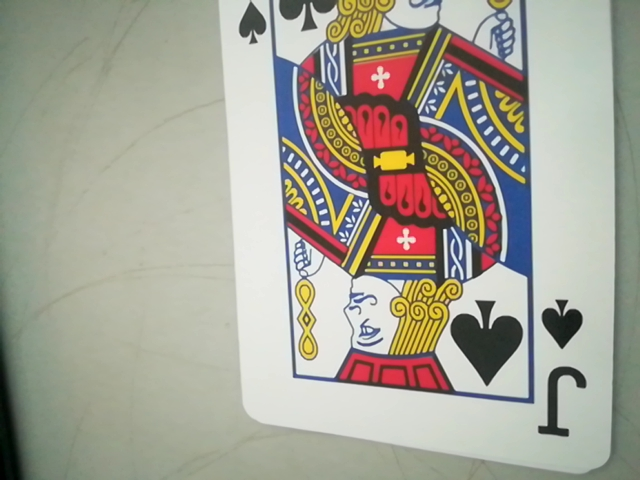ht j: (534, 292, 595, 431)
